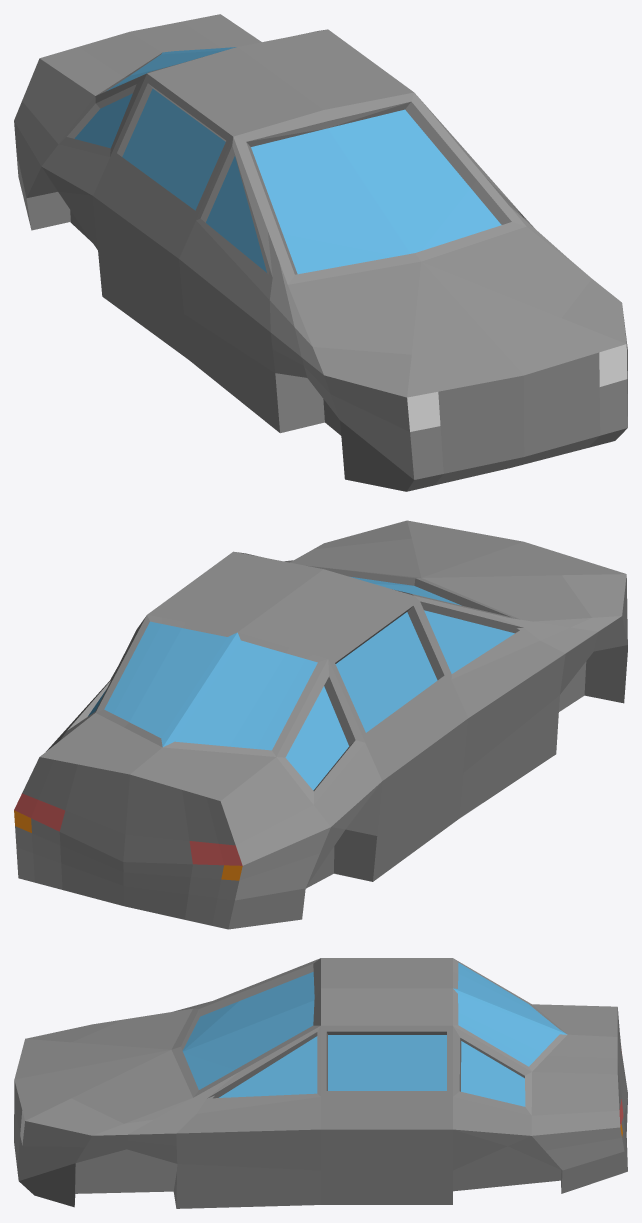
The model's file is grayscale sedan.fbx.
3 views of the same model, one above another, from view 1: azimuth 30°, elevation 25°; view 2: azimuth 150°, elevation 25°; view 3: azimuth 270°, elevation 25° (orthographic). The views are drawn at different scales.
Parts seen in each view (by area): view 1: Cube; view 2: Cube; view 3: Cube.
Part boxes in pixels (x1=…): Cube: x1=14, y1=14, x2=627, y2=491; Cube: x1=14, y1=520, x2=627, y2=929; Cube: x1=14, y1=958, x2=627, y2=1208.
Size of the model in its own units: 399 by 283 by 930.
